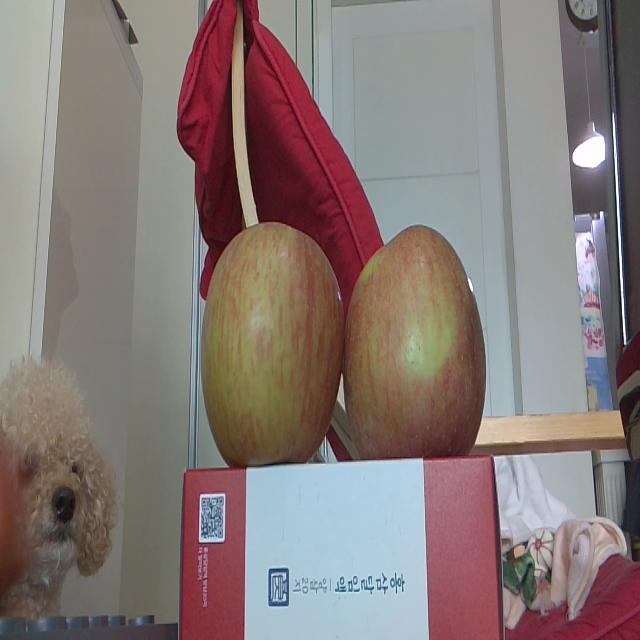apple: (198, 221, 344, 467), (343, 222, 487, 459)
